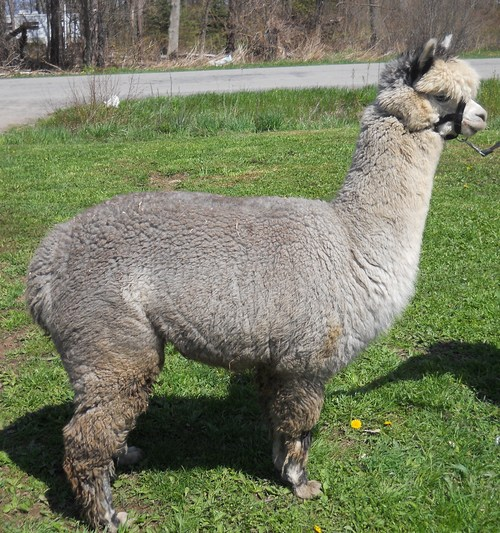alpaca: (25, 30, 489, 533)
